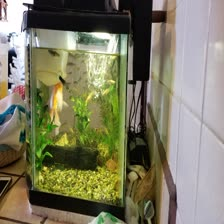Cuezo: (41, 80, 68, 135)
